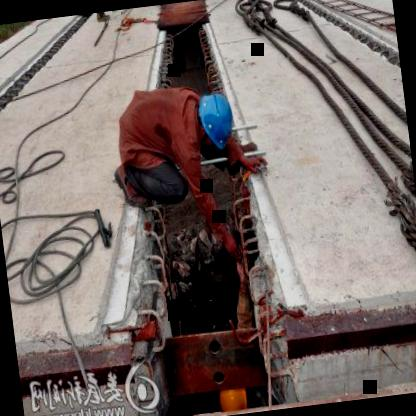helmet: (193, 89, 242, 160)
